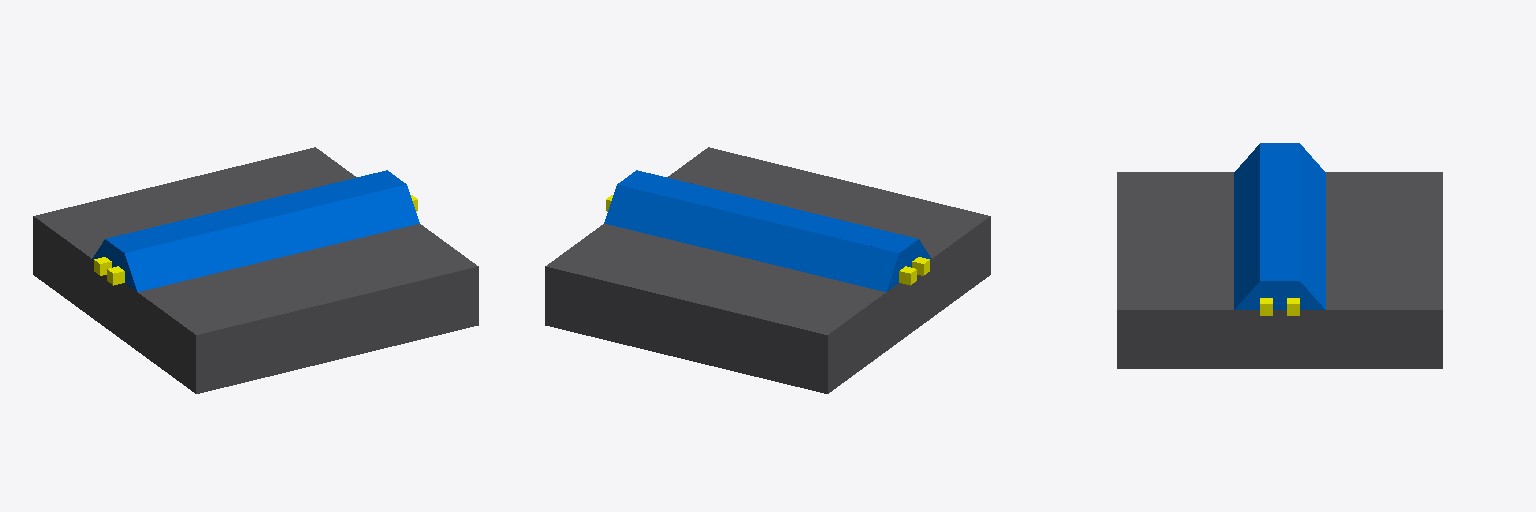
The model's file is wires_new.obj.
The picture shows the model from 3 angles: view 1: azimuth 30°, elevation 25°; view 2: azimuth 150°, elevation 25°; view 3: azimuth 270°, elevation 25°; orthographic projection.
Parts seen in each view (by area): view 1: Part6, Wedge1, Part5; view 2: Part6, Wedge2, Part5; view 3: Part6, Part5, Wedge1, Wedge2.
Boxes of the visible parts, <box> form: Part6: <box>33,147,478,393</box>; Wedge1: <box>125,185,419,291</box>; Part5: <box>105,170,406,270</box>; Part6: <box>545,147,990,393</box>; Wedge2: <box>604,185,898,291</box>; Part5: <box>617,170,918,270</box>; Part6: <box>1117,172,1442,368</box>; Part5: <box>1260,143,1299,309</box>; Wedge1: <box>1234,144,1259,309</box>; Wedge2: <box>1300,144,1325,309</box>.
Size of the model in its own units: 5.4 by 1.5 by 5.